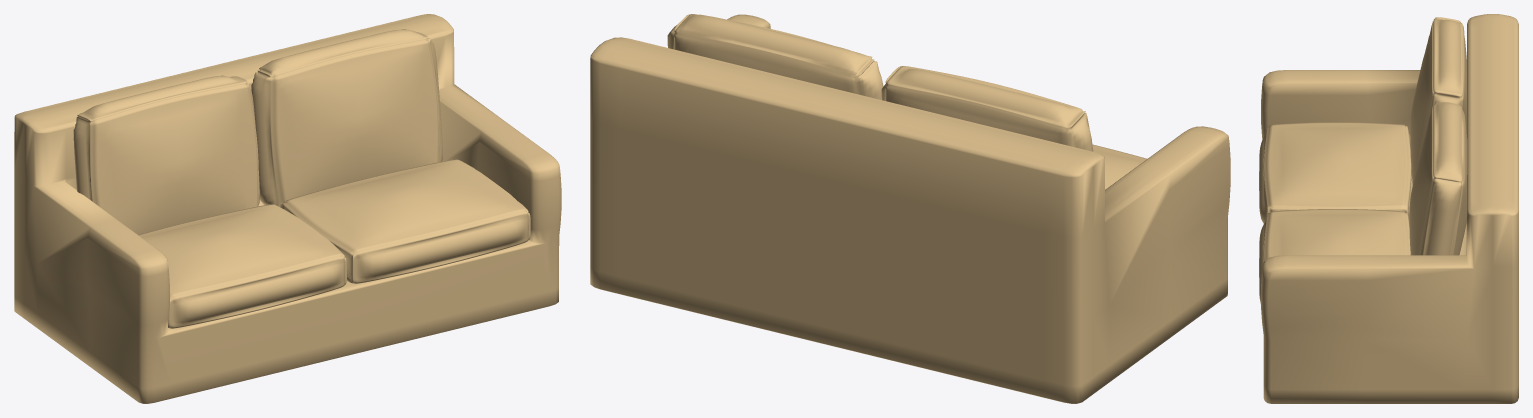
Rendered from Divano.fbx.
3 views of the same model, side by side, from view 1: azimuth 30°, elevation 25°; view 2: azimuth 150°, elevation 25°; view 3: azimuth 270°, elevation 25° (orthographic). The views are drawn at different scales.
Parts seen in each view (by area): view 1: Cube.004; view 2: Cube.004; view 3: Cube.004.
Part boxes in pixels (bbox=[...]): Cube.004: bbox=[14, 14, 561, 403]; Cube.004: bbox=[590, 14, 1230, 403]; Cube.004: bbox=[1259, 14, 1518, 403].
Bounding box in the file's own units: 2723 × 1364 × 1496.
